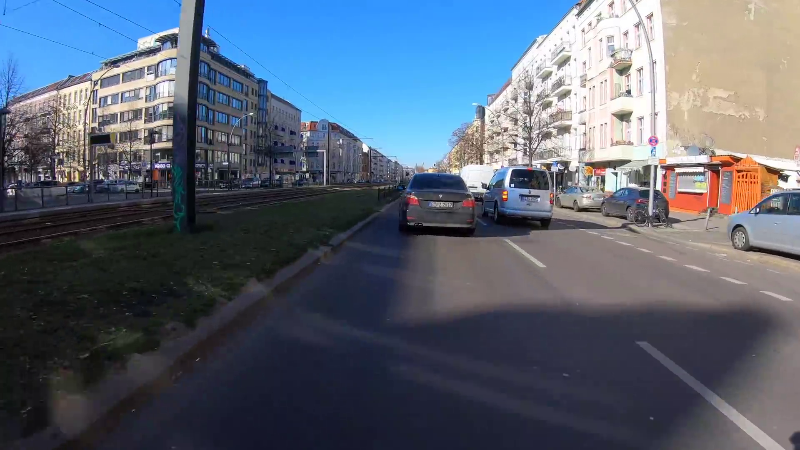Plate: (426, 199, 456, 209), (520, 194, 540, 202)
